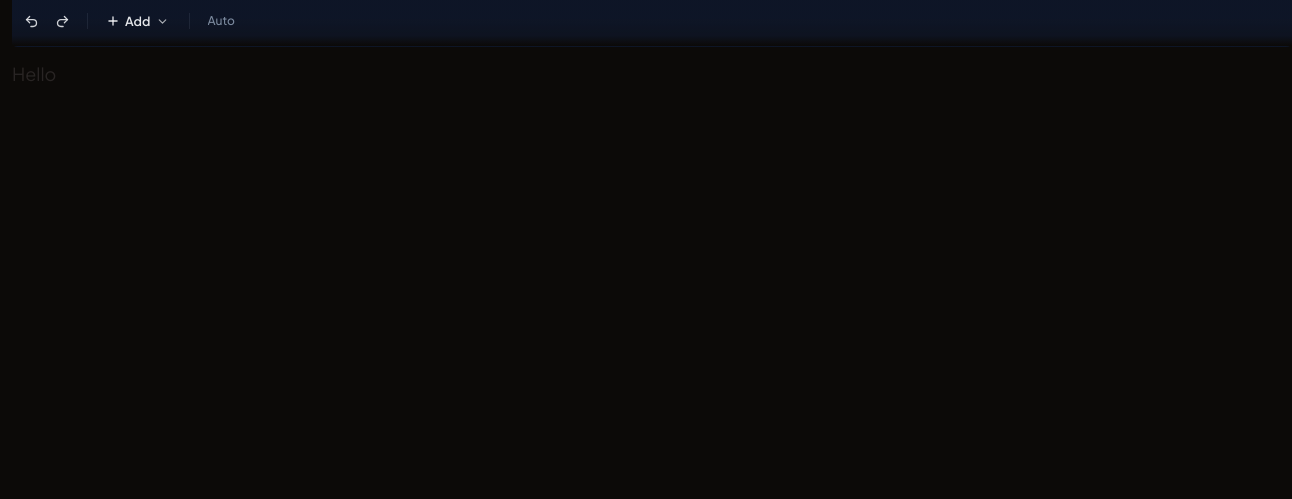
Test: M7.4A portal menu IA + scroll re-anchor › 4–8. menu grouping: Text / Insert / Academic; product options reachable
The width and height of the screenshot is (1292, 499).
Click the button "Add".
click(138, 21)  # box [98, 6, 178, 36]
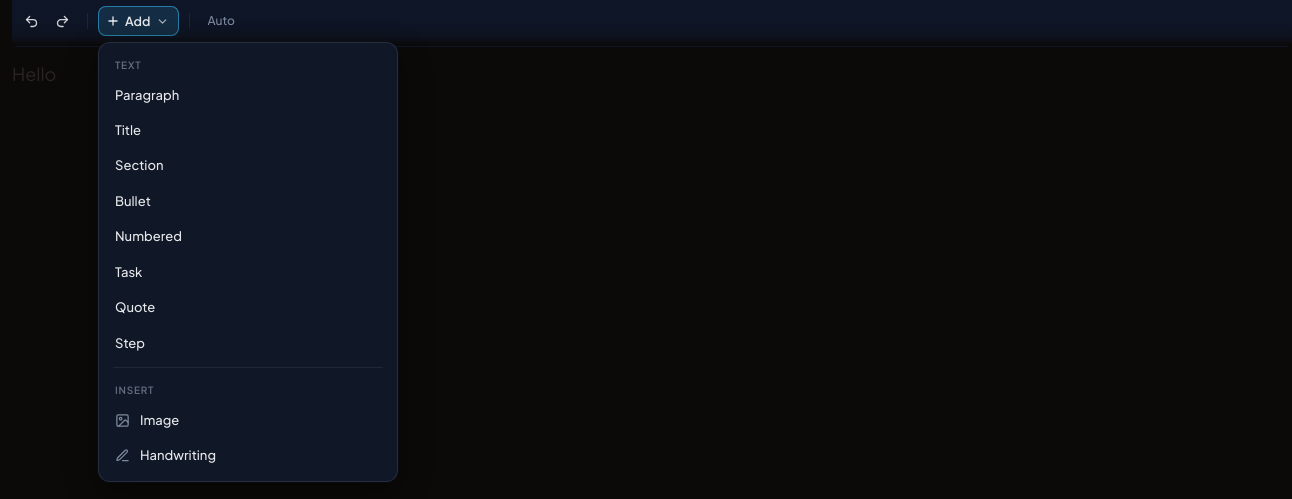
Expected: the text "Text" is shown, [115, 59, 141, 71]
Expected: the text "Insert" is shown, [115, 384, 154, 396]
